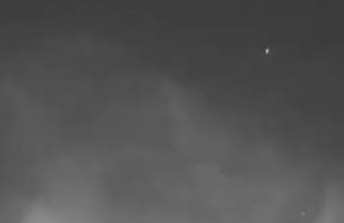Target: (265, 48, 304, 213)
